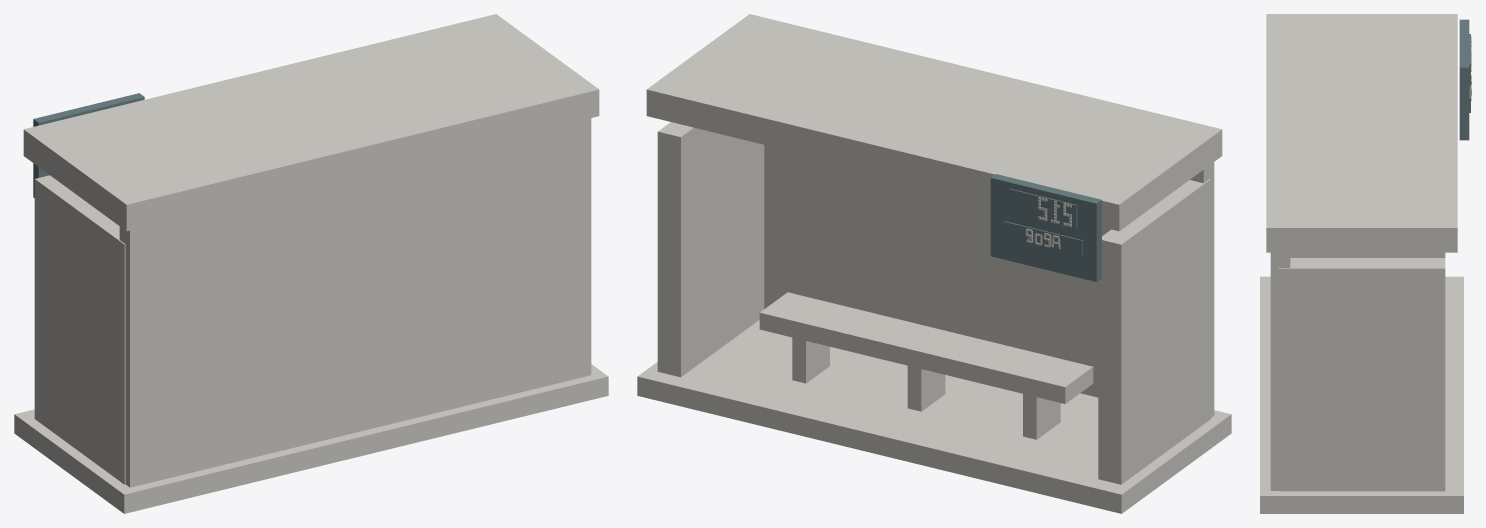
Rendered from bus_stop_soviet_concrete.glb.
The picture shows the model from 3 angles, left to right: view 1: azimuth 30°, elevation 25°; view 2: azimuth 150°, elevation 25°; view 3: azimuth 270°, elevation 25°; orthographic projection. The views are drawn at different scales.
Parts seen in each view (by area): view 1: rear_wall, concrete_roof, left_return_wall, base_slab, route_sign_board; view 2: concrete_roof, rear_wall, base_slab, left_return_wall, right_return_wall, bench_seat, route_sign_board, route_sign_number_face, bench_pedestal_1, bench_pedestal_2, bench_pedestal_0, route_sign_name_face; view 3: concrete_roof, right_return_wall, base_slab, rear_wall, route_sign_board, left_return_wall.
Boxes of the visible parts, bbox=[...] form: rear_wall: bbox=[119, 118, 591, 487]; concrete_roof: bbox=[23, 14, 599, 231]; left_return_wall: bbox=[34, 175, 125, 484]; base_slab: bbox=[14, 364, 608, 513]; route_sign_board: bbox=[33, 93, 144, 197]; concrete_roof: bbox=[646, 14, 1222, 231]; rear_wall: bbox=[764, 145, 1214, 417]; base_slab: bbox=[637, 320, 1231, 513]; left_return_wall: bbox=[1098, 178, 1211, 484]; right_return_wall: bbox=[657, 122, 764, 377]; bench_seat: bbox=[759, 292, 1093, 403]; route_sign_board: bbox=[990, 174, 1101, 281]; route_sign_number_face: bbox=[1009, 188, 1077, 228]; bench_pedestal_1: bbox=[907, 366, 945, 411]; bench_pedestal_2: bbox=[792, 337, 829, 383]; bench_pedestal_0: bbox=[1023, 394, 1060, 439]; route_sign_name_face: bbox=[1003, 221, 1082, 256]; concrete_roof: bbox=[1266, 14, 1457, 252]; right_return_wall: bbox=[1278, 258, 1445, 491]; base_slab: bbox=[1260, 276, 1463, 513]; rear_wall: bbox=[1270, 252, 1290, 490]; route_sign_board: bbox=[1459, 19, 1469, 140]; left_return_wall: bbox=[1290, 252, 1445, 257].
Size of the model in its own units: 4.2 by 2.54 by 1.71.
